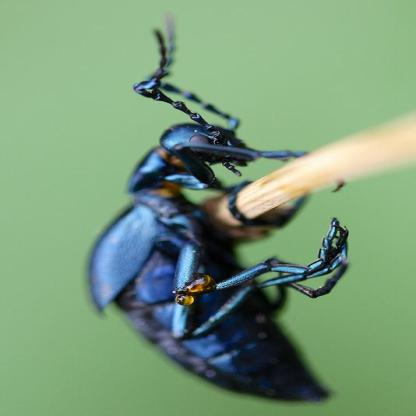beetle: (64, 28, 377, 405)
